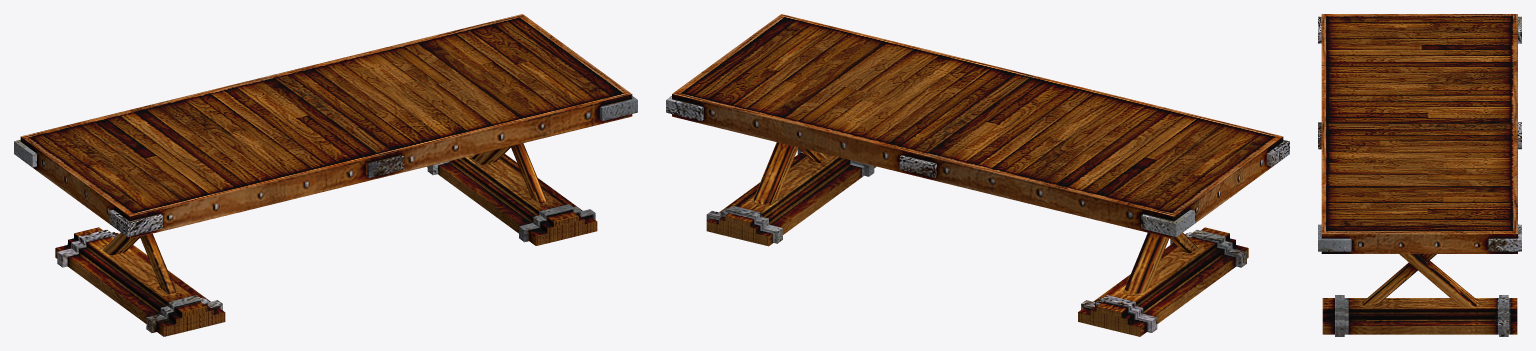
Rendered from Prop_SM_Table_A.fbx.
3 renders of one model, left to right at view 1: azimuth 30°, elevation 25°; view 2: azimuth 150°, elevation 25°; view 3: azimuth 270°, elevation 25°, orthographic. The views are drawn at different scales.
Visible parts, largest first — view 1: Prop_SM_Table_A; view 2: Prop_SM_Table_A; view 3: Prop_SM_Table_A.
Part boxes in pixels (x1,y1,x2,y2): Prop_SM_Table_A: (14,14,637,336); Prop_SM_Table_A: (666,14,1289,336); Prop_SM_Table_A: (1318,14,1521,336).
Bounding box in the file's own units: 5.05 × 1.22 × 1.95.
Materials: 1 (1 with a texture image).
